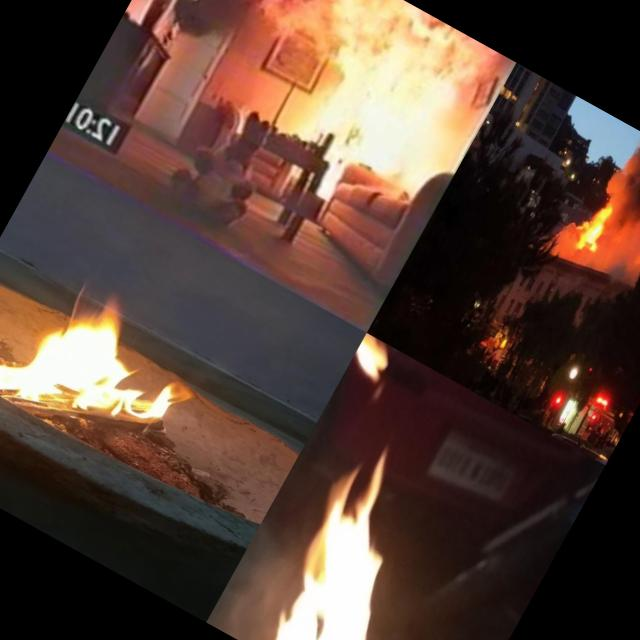fire: (240, 395, 574, 640), (240, 0, 512, 245), (0, 226, 219, 481), (557, 192, 616, 258), (480, 318, 516, 357)
smoke: (596, 129, 640, 266), (584, 210, 640, 306)
